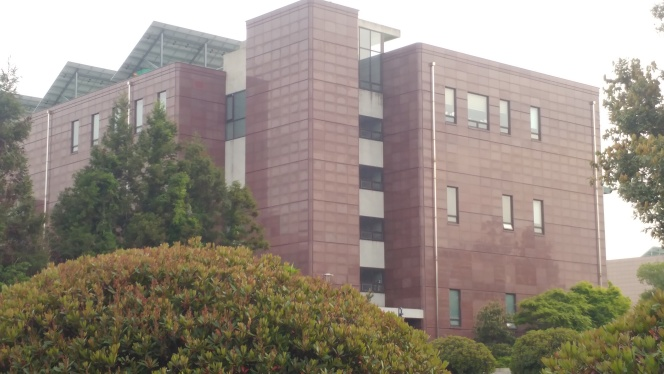Museum: (2, 6, 610, 342), (1, 2, 608, 283), (244, 18, 606, 263), (358, 22, 605, 279), (25, 15, 243, 198), (245, 6, 357, 246)
